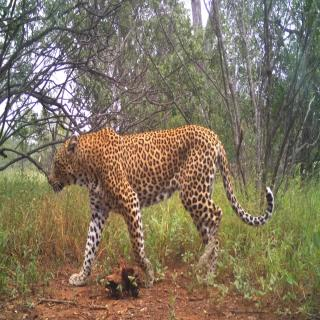Leopard: (37, 111, 274, 276)
